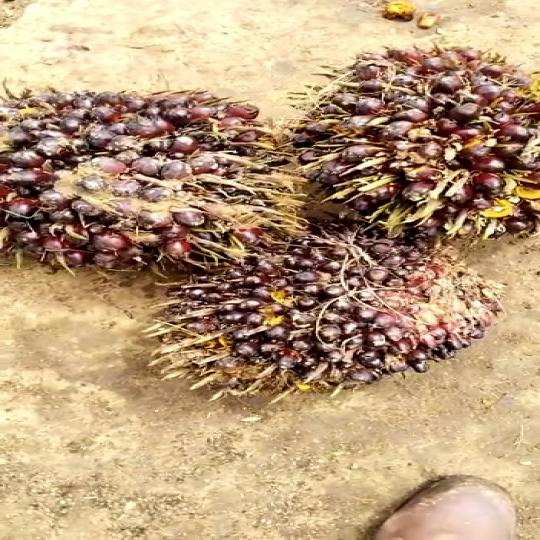kurang masak: (179, 225, 501, 424), (0, 77, 282, 281), (295, 38, 538, 266)
